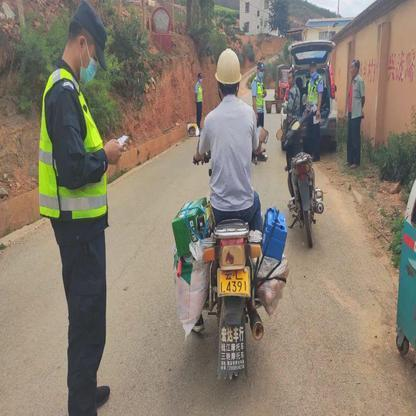target: (171, 46, 291, 381)
